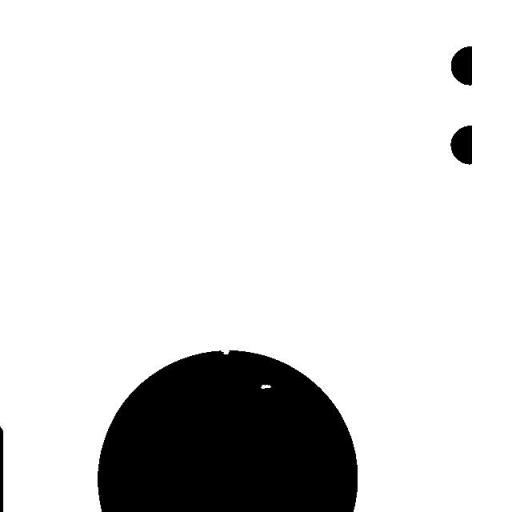mousebite: (212, 340, 237, 362)
pin-hole: (253, 377, 278, 396)
